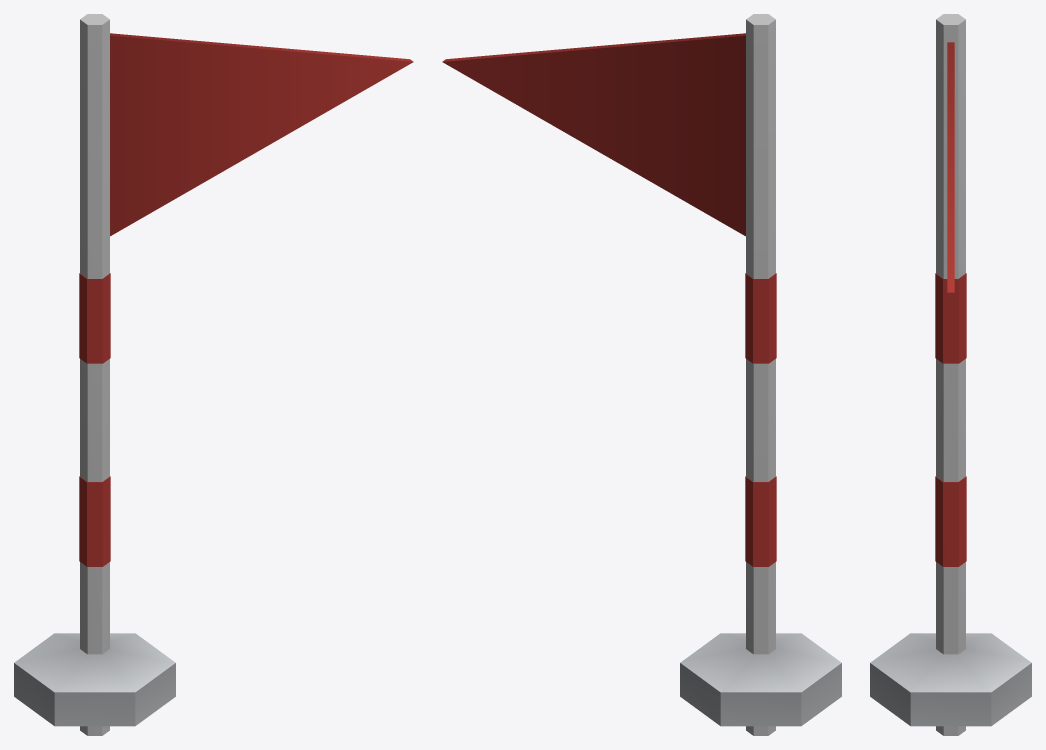
File: prop.glacier_flag_r.glb
3 views of the same model, side by side, from view 1: azimuth 30°, elevation 25°; view 2: azimuth 150°, elevation 25°; view 3: azimuth 270°, elevation 25° (orthographic).
Visible parts, largest first — view 1: glacier_flag_r; view 2: glacier_flag_r; view 3: glacier_flag_r.
Part boxes in pixels (x1=…): glacier_flag_r: x1=14, y1=14, x2=413, y2=735; glacier_flag_r: x1=442, y1=14, x2=841, y2=735; glacier_flag_r: x1=870, y1=14, x2=1031, y2=735.
Bounding box in the file's own units: 1.17 × 2.1 × 0.433.
